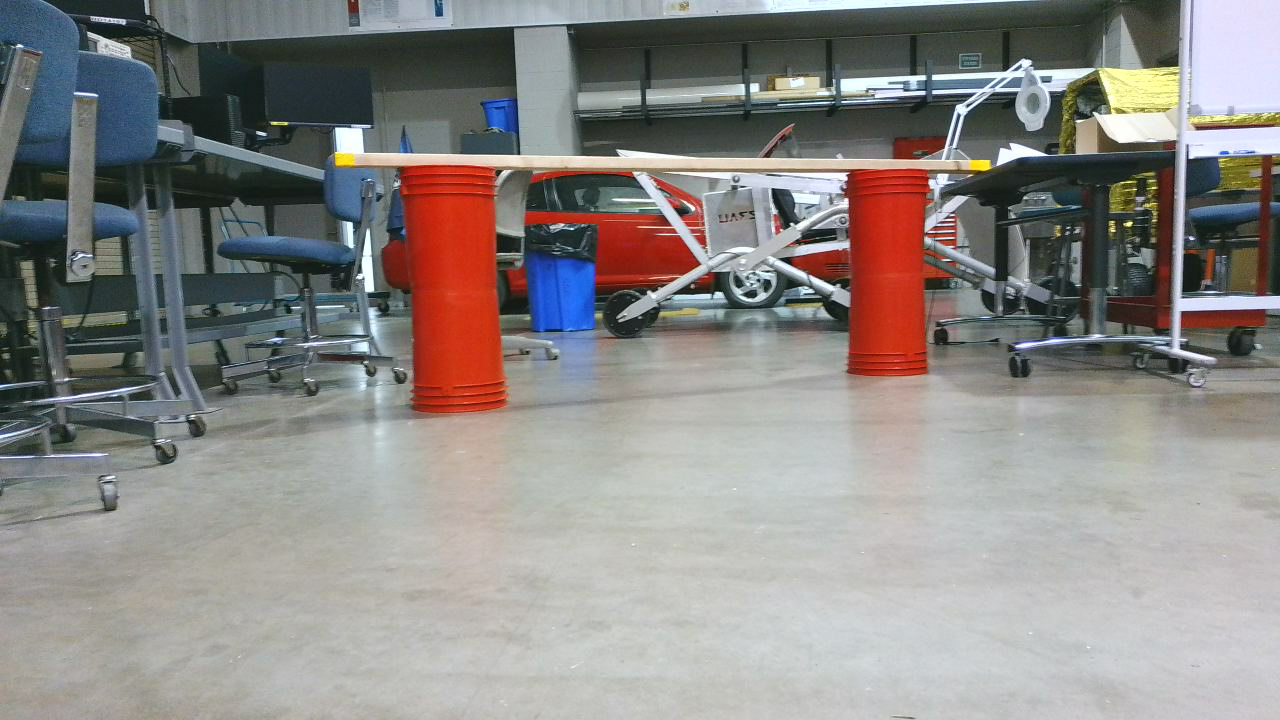red_bucket_arch: (411, 154, 937, 420)
